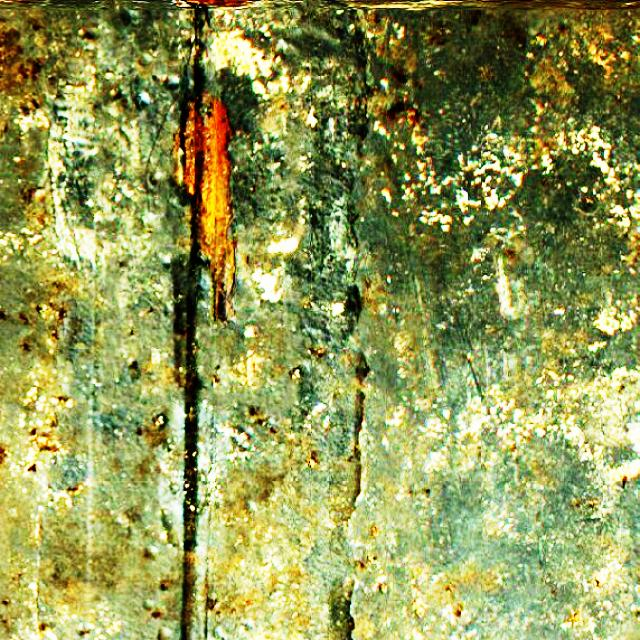Corrosion: (175, 89, 234, 316)
